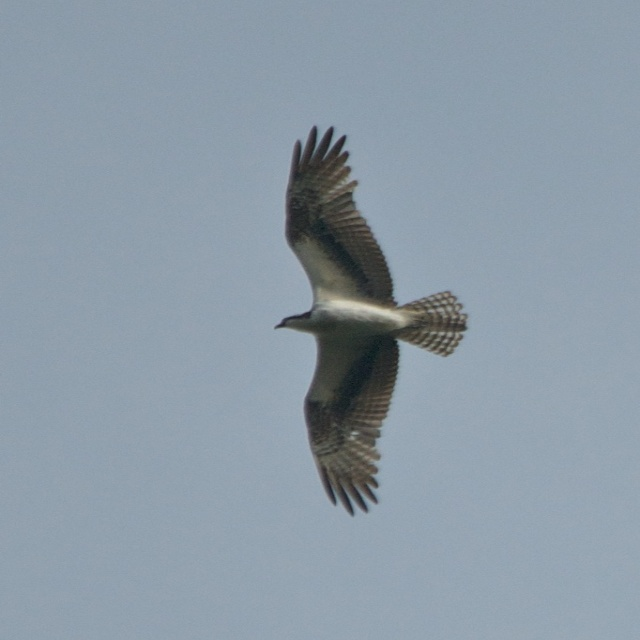Eagle: (269, 122, 477, 520)
